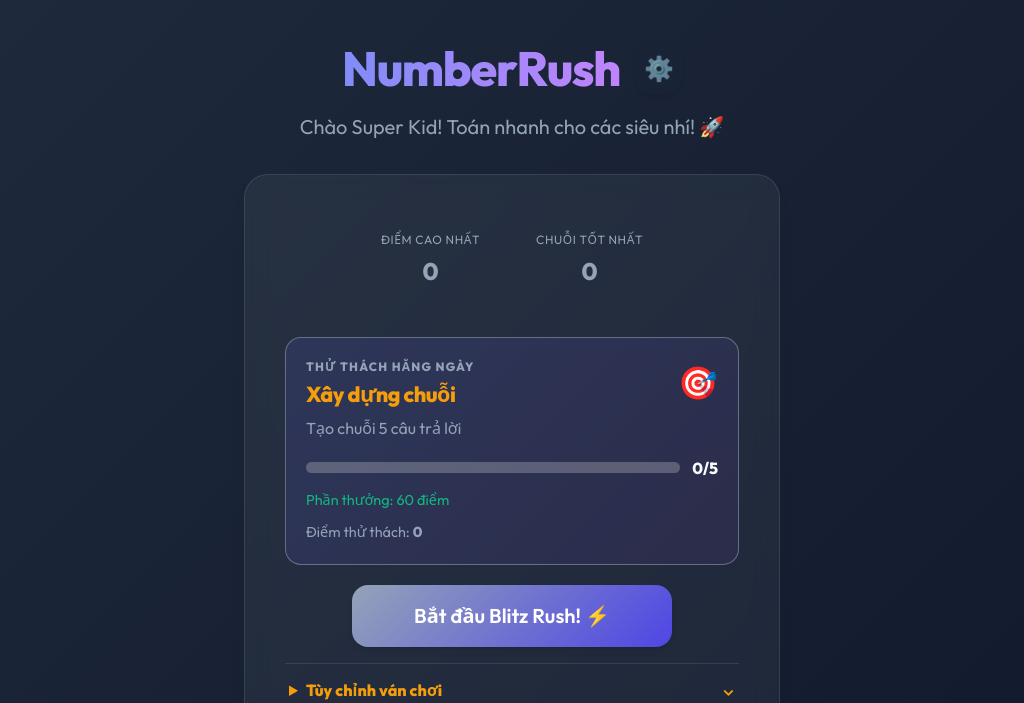
it: App keyboard gameplay › translates gameplay accessibility text in Vietnamese
The image size is (1024, 703).
Step 1. Click the button "Bắt đầu Blitz Rush! ⚡" → (512, 616), box [352,585,672,647]
(page scrolled)
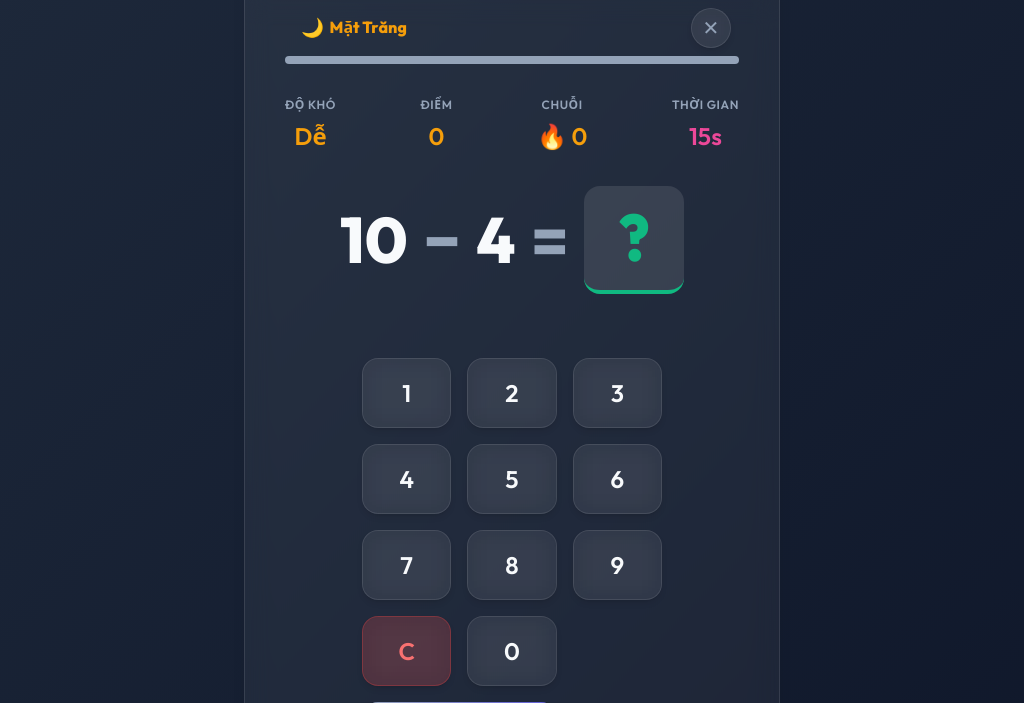
Check: the element named "Đáp án hiện tại của bạn là" is shown, box [285,186,739,294]
